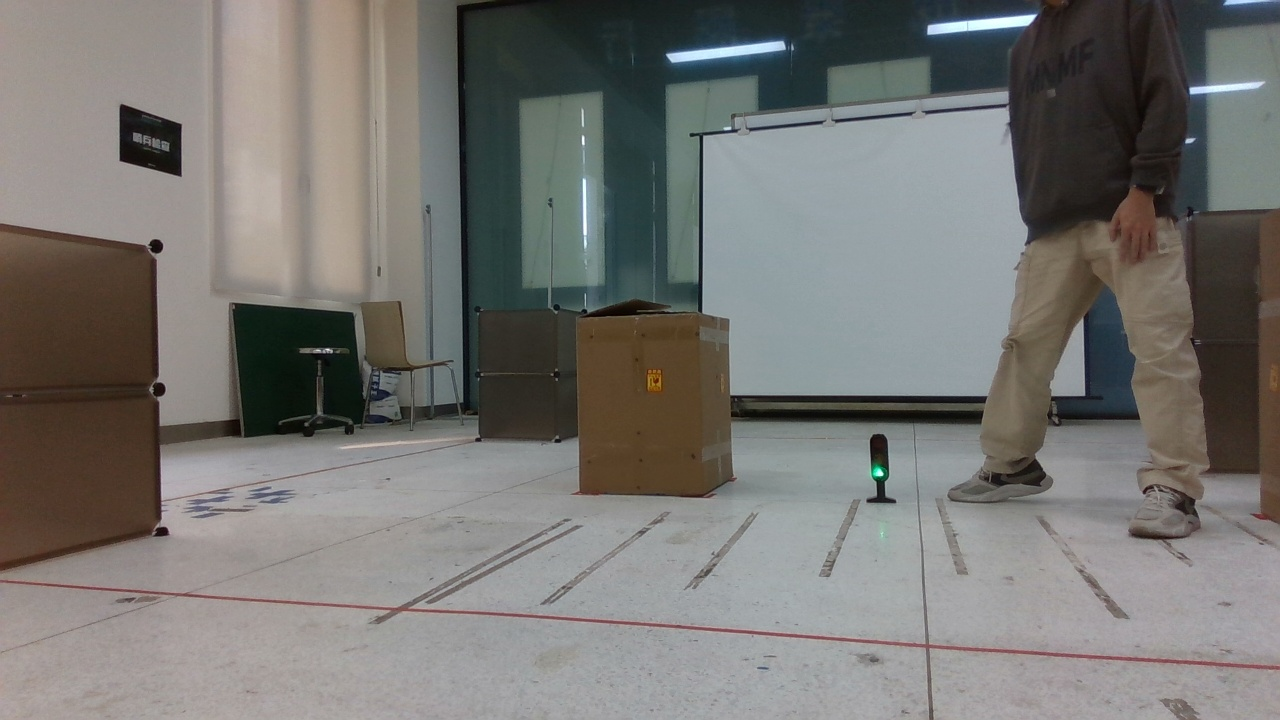green_light: (862, 425, 897, 508)
